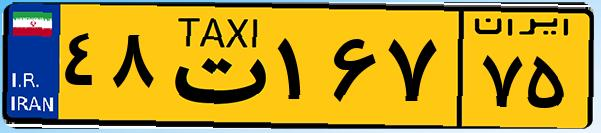1: (270, 28, 330, 110)
4: (57, 26, 110, 100)
5: (525, 38, 570, 115)
6: (330, 28, 385, 110)
7: (385, 28, 445, 110), (475, 38, 525, 113)
8: (110, 28, 158, 98)
ت: (158, 12, 270, 120)
